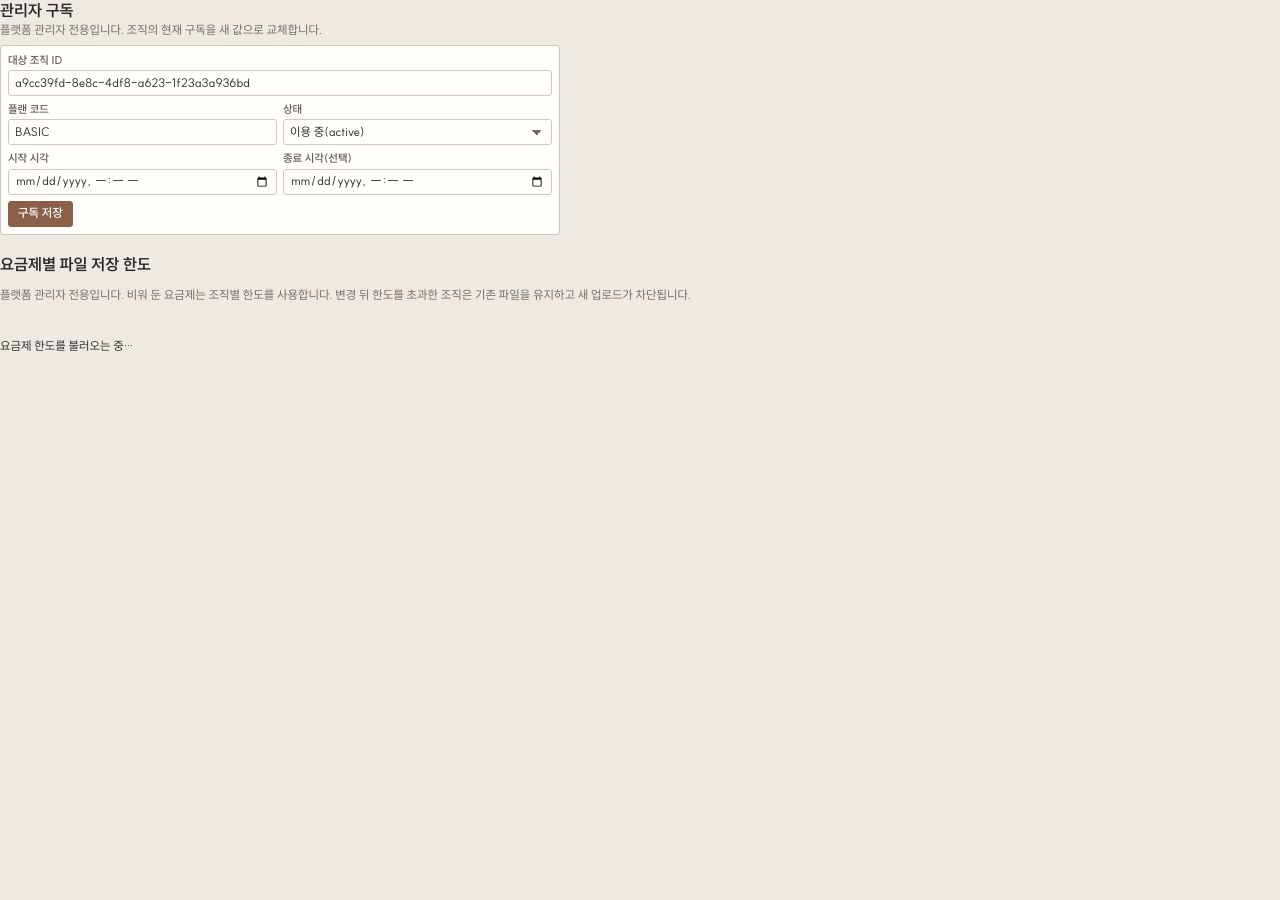
AdminSubscriptionPage › 확인 후 정규화한 값(대문자 플랜, 오프셋 ISO)으로 교체 요청을 보낸다
Replace the text in the field labelled "플랜 코드" with "  basic  " at (142, 132), box [8,119,277,145]
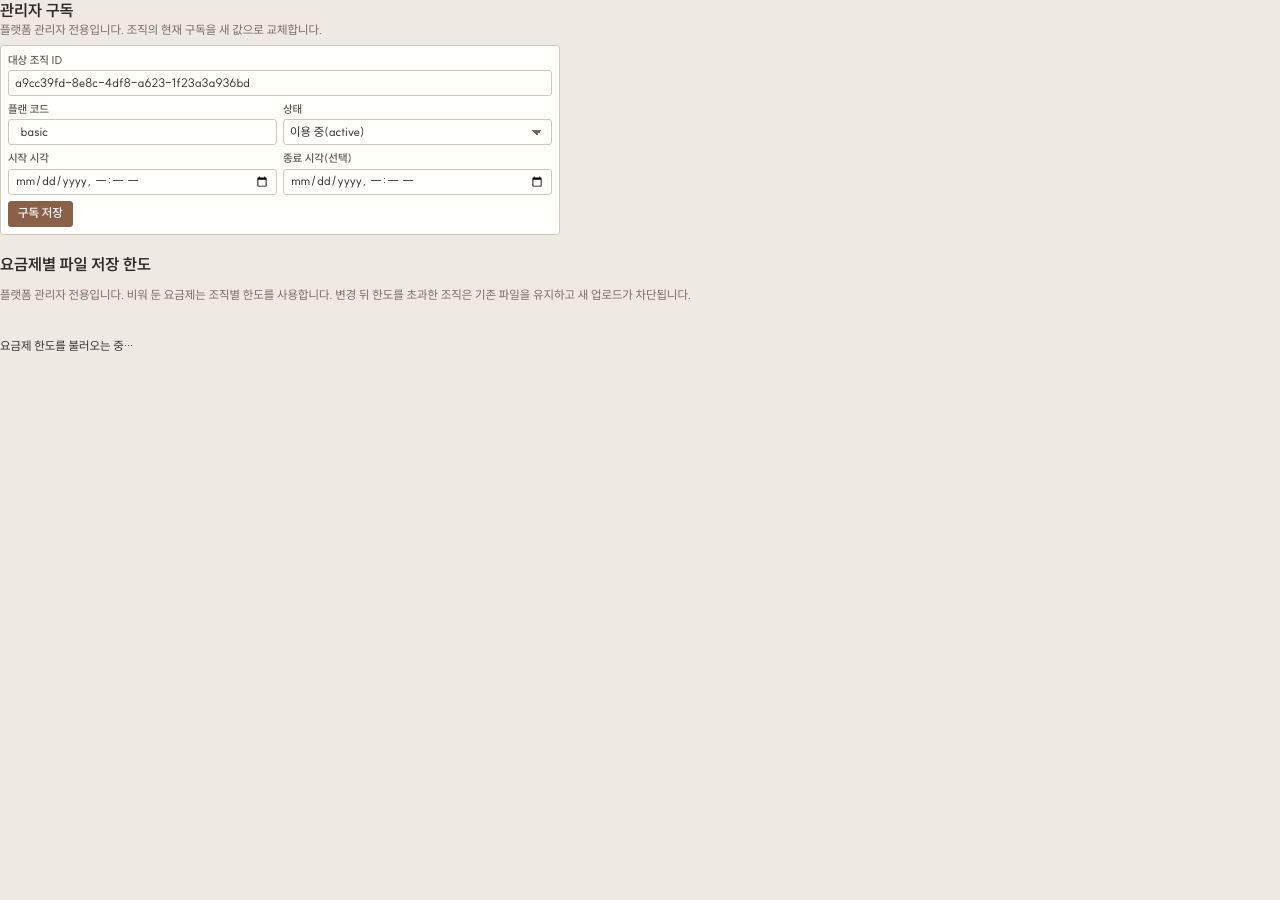
Replace the text in the field labelled "대상 조직 ID" with "b9cc39fd-8e8c-4df8-a623-1f23a3a936bd" at (280, 83), box [8,70,552,96]
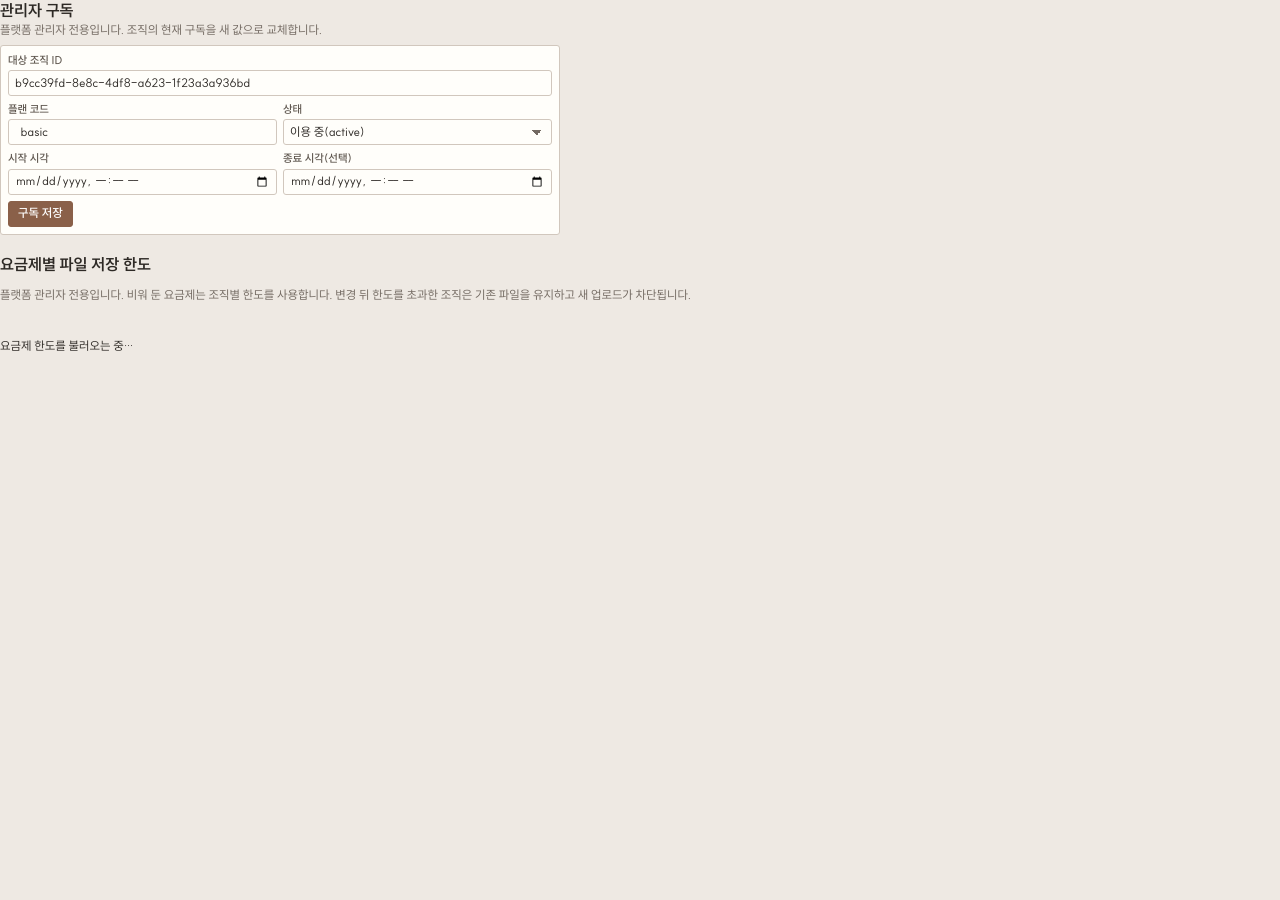
Type "2026-09-16T09:00" into the field labelled "시작 시각" at (142, 182), box [8,169,277,195]
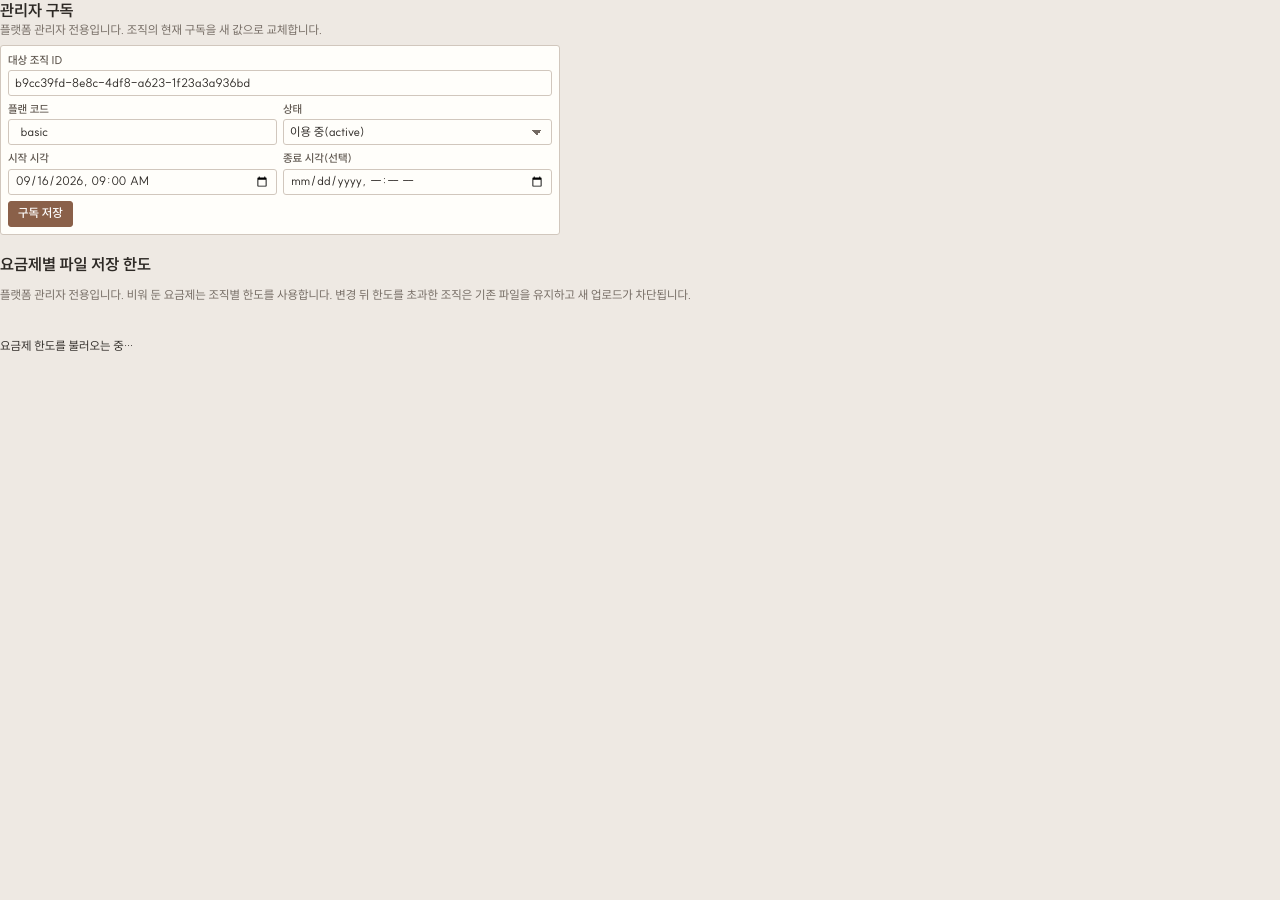
Type "2026-10-16T09:00" into the field labelled "종료 시각(선택)" at (418, 182), box [283,169,552,195]
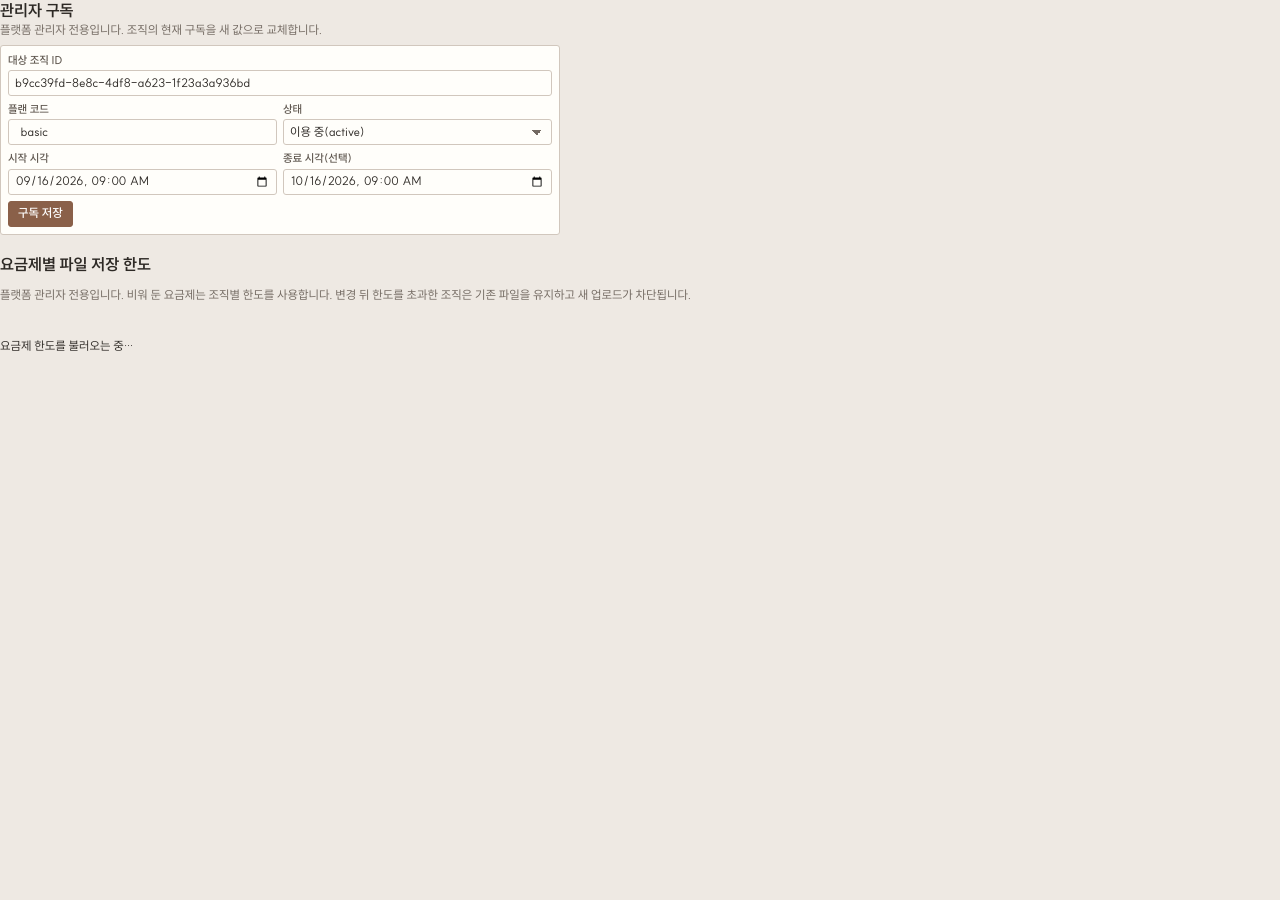
Click the button "구독 저장" at (40, 214), box [8,201,73,227]
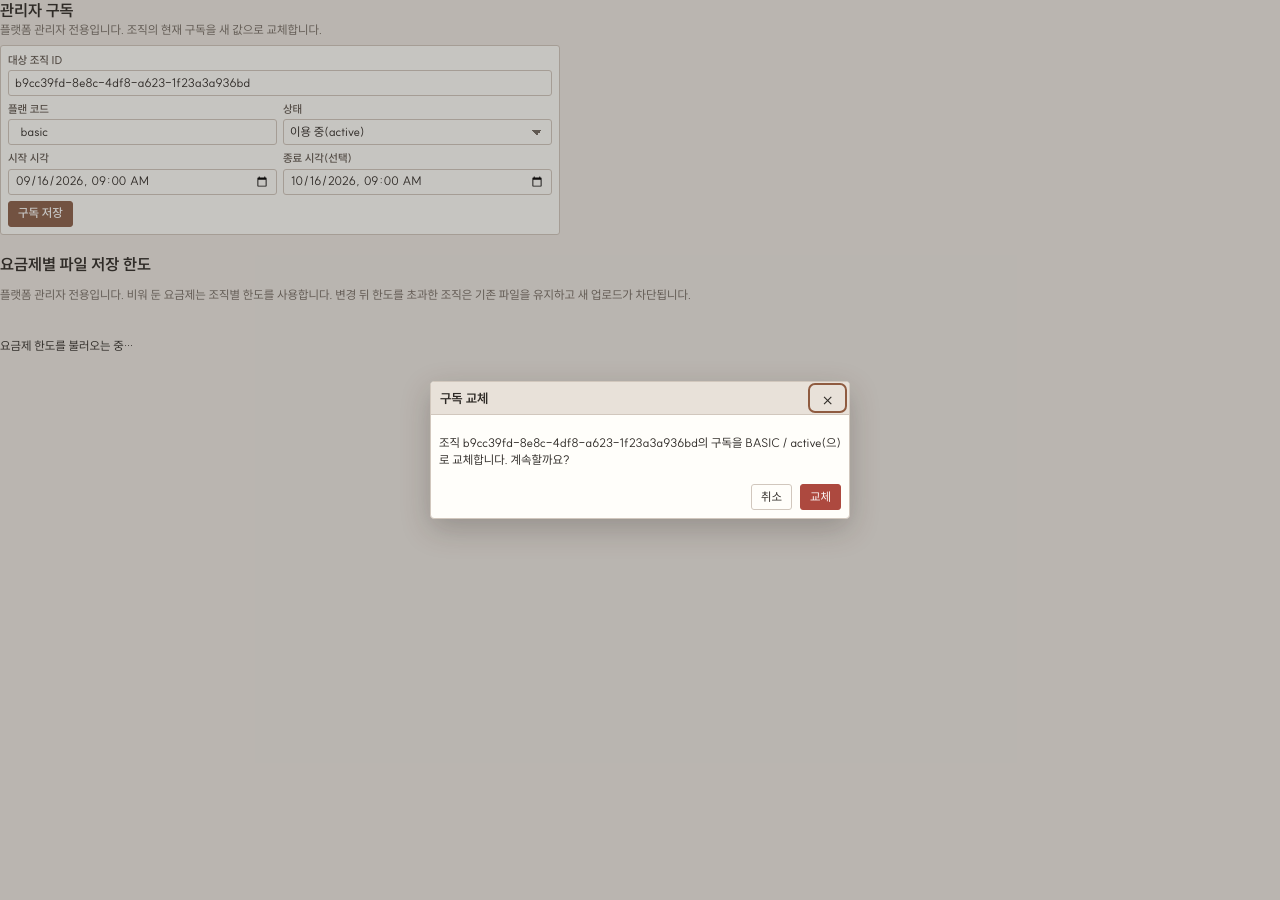
Expected: the text "구독을 BASIC / active" is shown, [439,435,841,466]
Click the button "교체" at (820, 497), box [800,484,841,510]
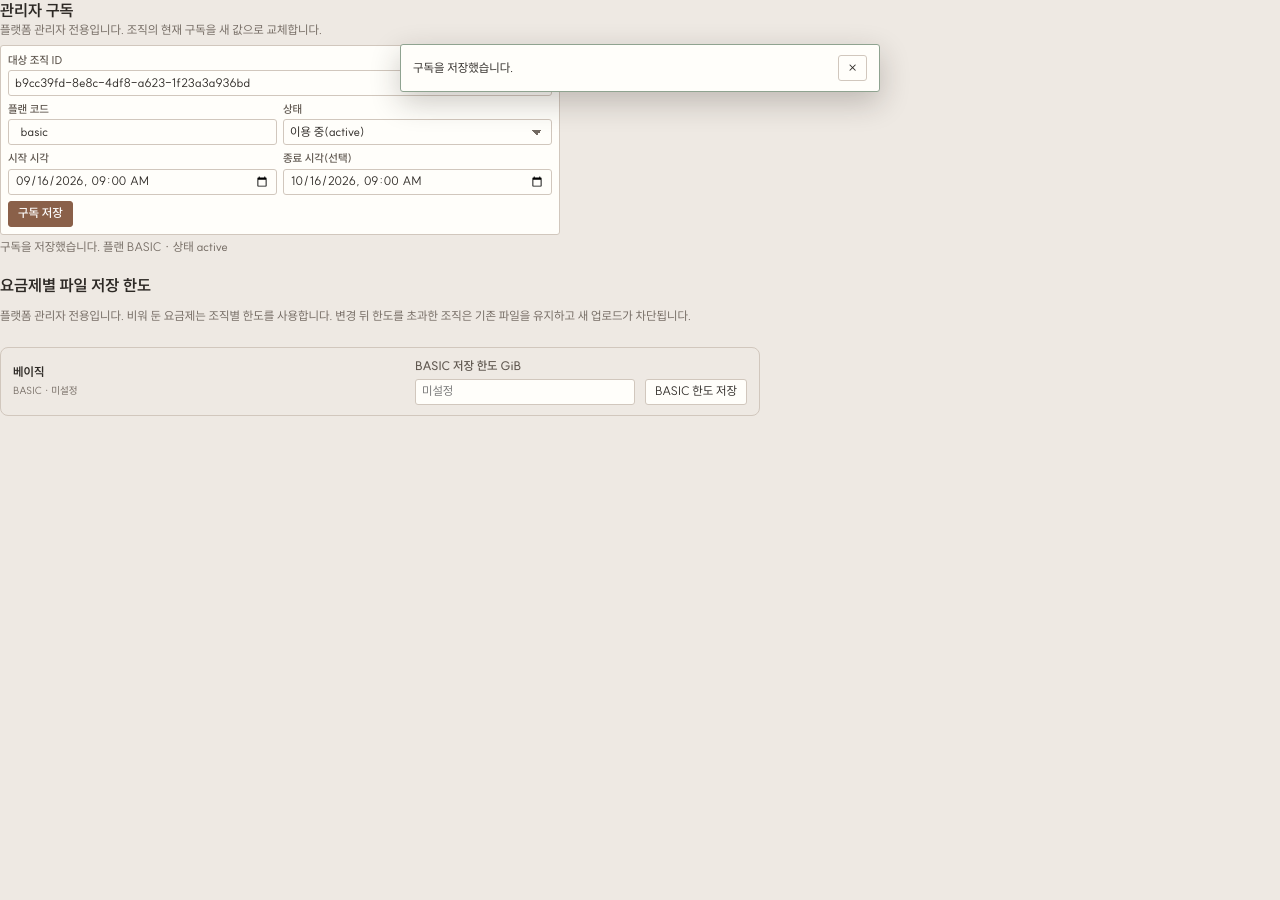
Expected: the text "구독을 저장했습니다." is shown, [413,60,513,75]
